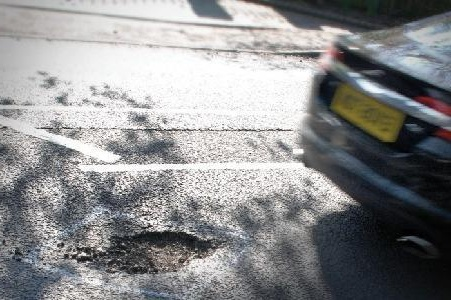pothole: (79, 229, 226, 277), (280, 49, 323, 62)
